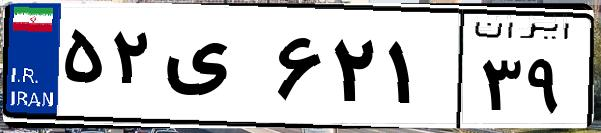1: (385, 28, 445, 110)
2: (330, 28, 385, 110), (110, 28, 158, 98)
3: (475, 38, 525, 113)
5: (57, 26, 110, 100)
6: (270, 28, 330, 110)
9: (525, 38, 570, 115)
ی: (158, 20, 270, 120)
